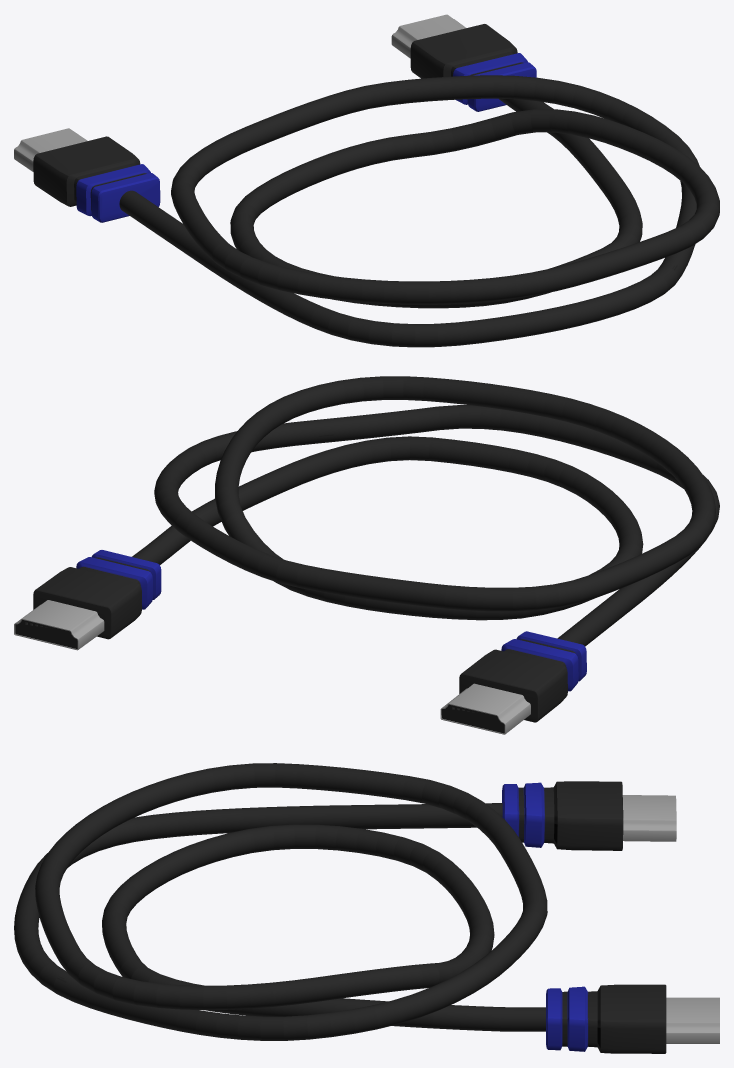
File: HDMI.fbx
3 renders of one model, top to bottom at view 1: azimuth 30°, elevation 25°; view 2: azimuth 150°, elevation 25°; view 3: azimuth 270°, elevation 25°, orthographic. The views are drawn at different scales.
Parts seen in each view (by area): view 1: HDMI; view 2: HDMI; view 3: HDMI.
Boxes of the visible parts, left/top/right/bottom form: HDMI: left=14, top=14, right=719, bottom=347; HDMI: left=14, top=376, right=719, bottom=734; HDMI: left=14, top=763, right=719, bottom=1053.
Size of the model in its own units: 572 by 64.38 by 672.
